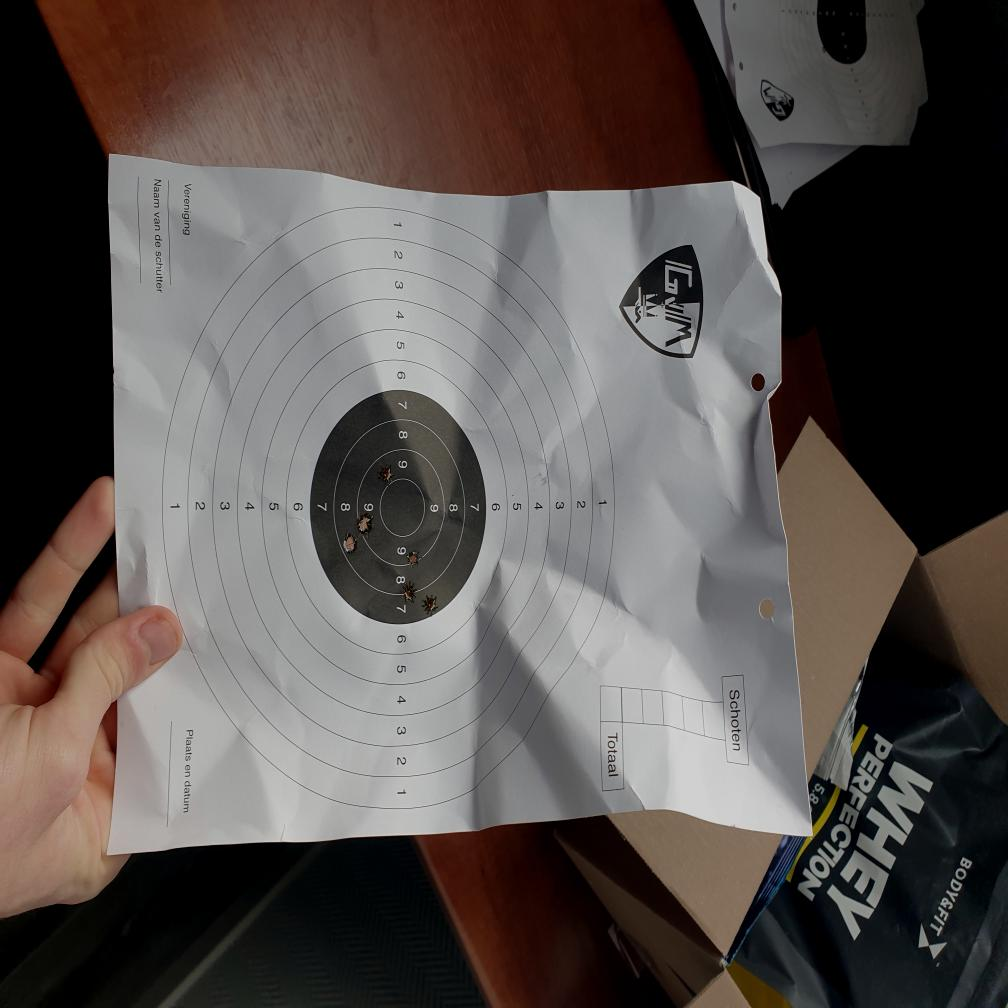7: (421, 594, 438, 616)
8: (342, 532, 358, 555), (401, 581, 416, 603)
9: (356, 511, 374, 539), (378, 465, 394, 486), (406, 550, 422, 568)
Target: (162, 205, 616, 818)
black_contour: (310, 390, 487, 628)
